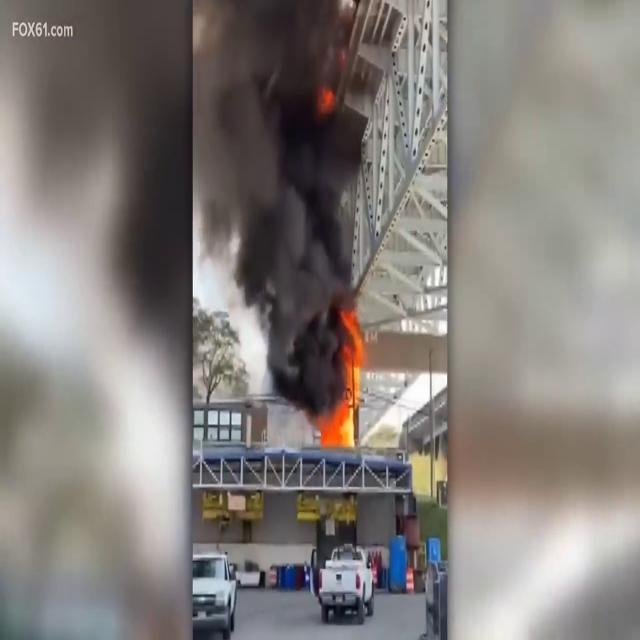Fire: (334, 306, 368, 445)
Smoke: (194, 0, 368, 379)
